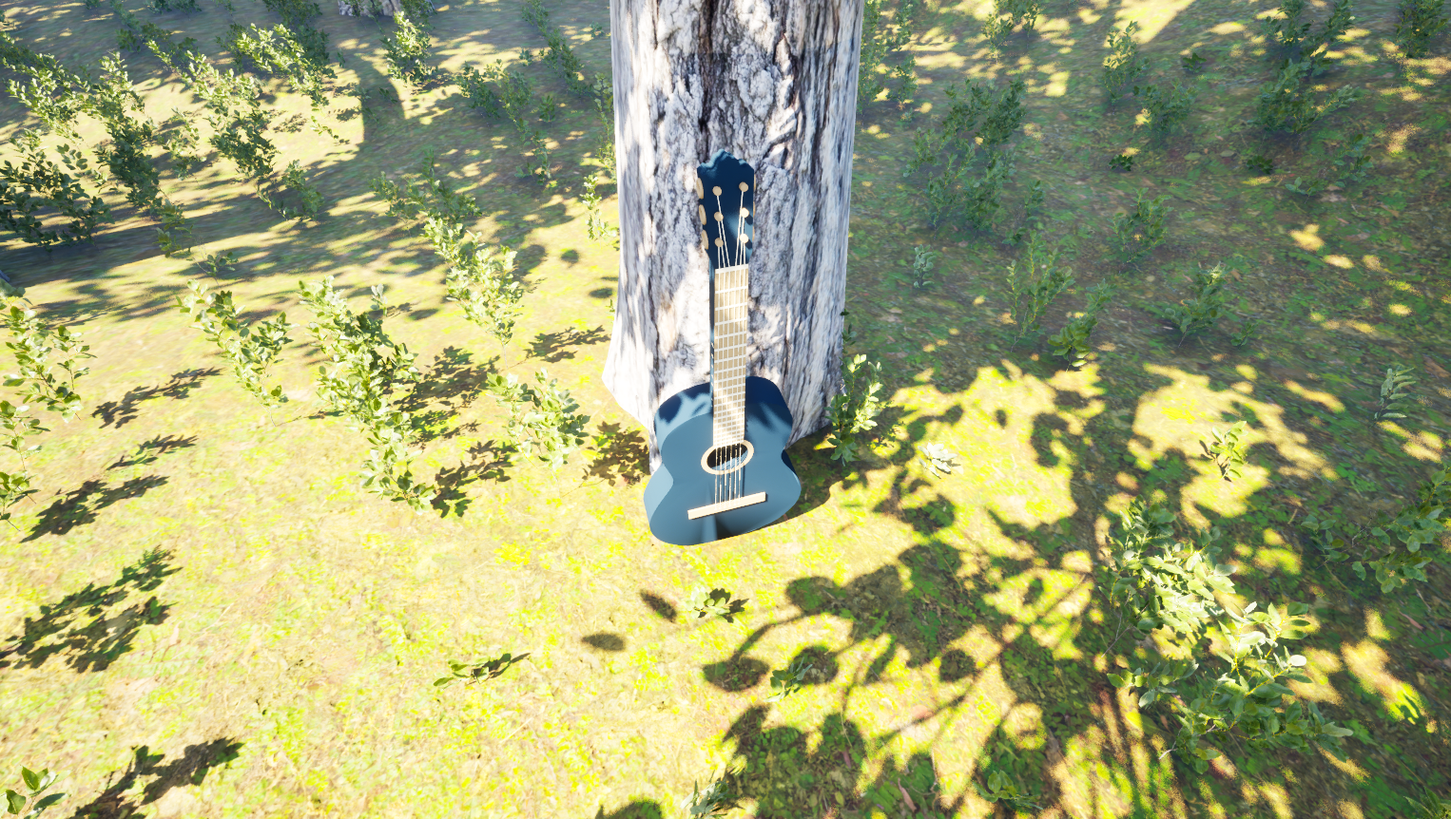Guitar: (582, 123, 858, 559)
